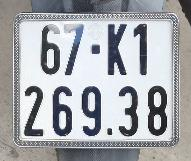1: (132, 19, 153, 78)
2: (21, 82, 46, 140)
3: (114, 82, 141, 138)
6: (37, 20, 63, 75), (50, 84, 75, 138)
7: (60, 20, 87, 77)
8: (144, 81, 173, 139)
9: (77, 84, 106, 138)
K: (104, 20, 130, 77)
